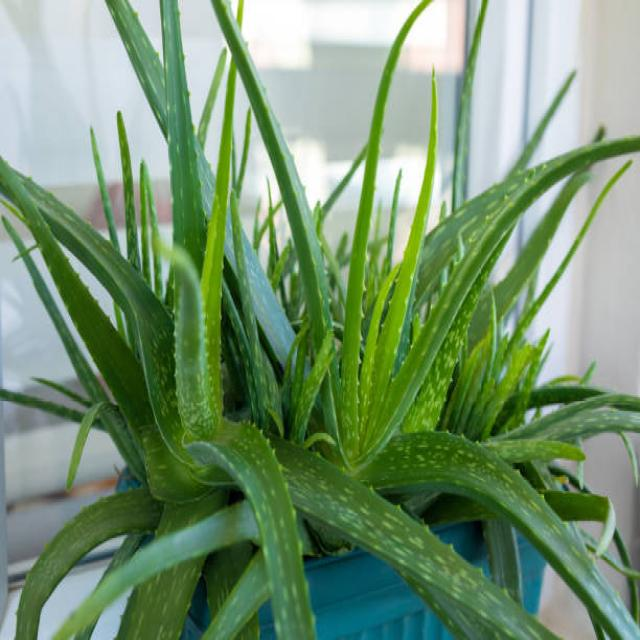AloeVera: (129, 0, 502, 411), (306, 142, 605, 596), (66, 122, 318, 571)
